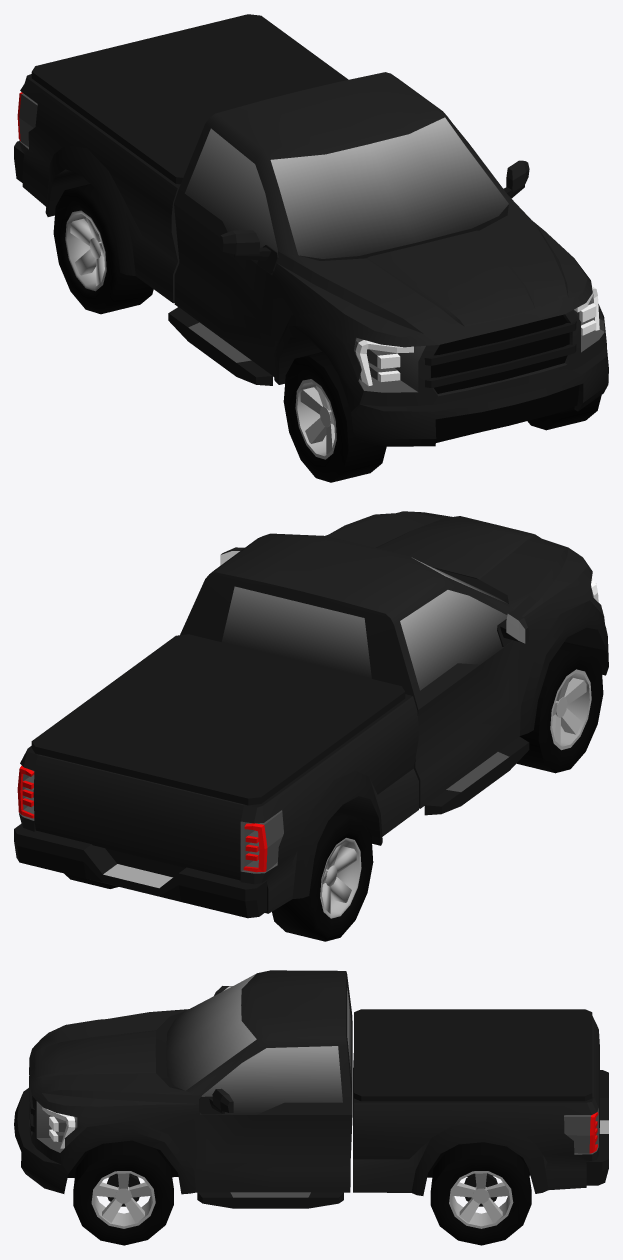
File: pickupTruck 2.fbx
The picture shows the model from 3 angles, top to bottom: view 1: azimuth 30°, elevation 25°; view 2: azimuth 150°, elevation 25°; view 3: azimuth 270°, elevation 25°; orthographic projection. The views are drawn at different scales.
Parts seen in each view (by area): view 1: Plane, Cube, Cylinder.002, Cylinder.003, Cylinder; view 2: Plane, Cube, Plane.001, Cylinder.003, Cylinder.002; view 3: Plane, Cube, Cylinder, Cylinder.001, Plane.001.
Part boxes in pixels (left/top/right/bottom): Plane: left=14, top=72, right=608, bottom=446; Cube: left=31, top=14, right=348, bottom=184; Cylinder.002: left=283, top=352, right=386, bottom=482; Cylinder.003: left=53, top=184, right=153, bottom=314; Cylinder: left=527, top=395, right=601, bottom=430; Plane: left=14, top=511, right=608, bottom=918; Cube: left=31, top=634, right=405, bottom=805; Plane.001: left=33, top=754, right=244, bottom=880; Cylinder.003: left=272, top=812, right=373, bottom=941; Cylinder.002: left=516, top=643, right=603, bottom=773; Plane: left=14, top=970, right=608, bottom=1208; Cube: left=354, top=1009, right=592, bottom=1101; Cylinder: left=73, top=1140, right=173, bottom=1245; Cylinder.001: left=430, top=1142, right=531, bottom=1245; Plane.001: left=592, top=1019, right=599, bottom=1122.
Bounding box in the file's own units: 96.08 × 75.58 × 208.
Materials: 1 (1 with a texture image).
